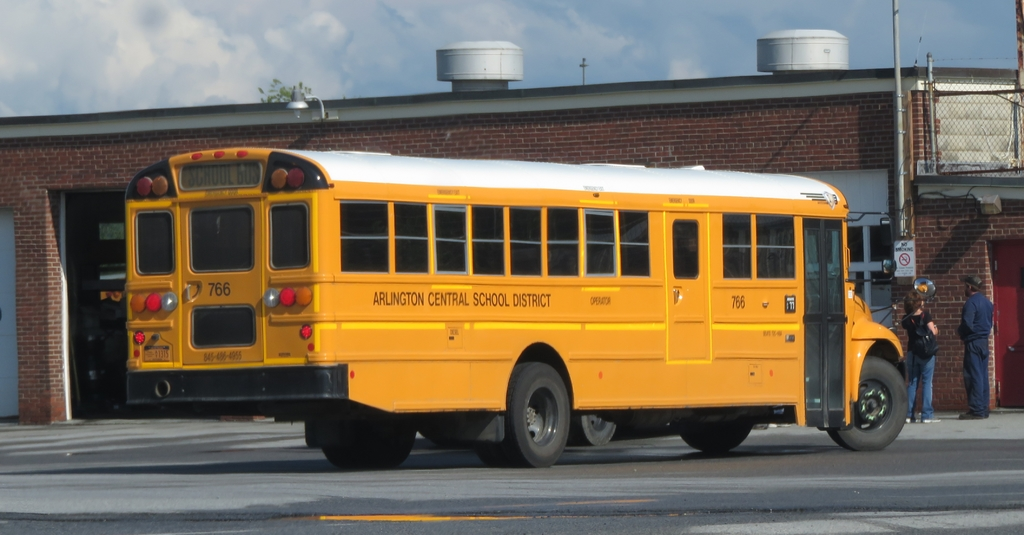Bus: (127, 149, 935, 461)
